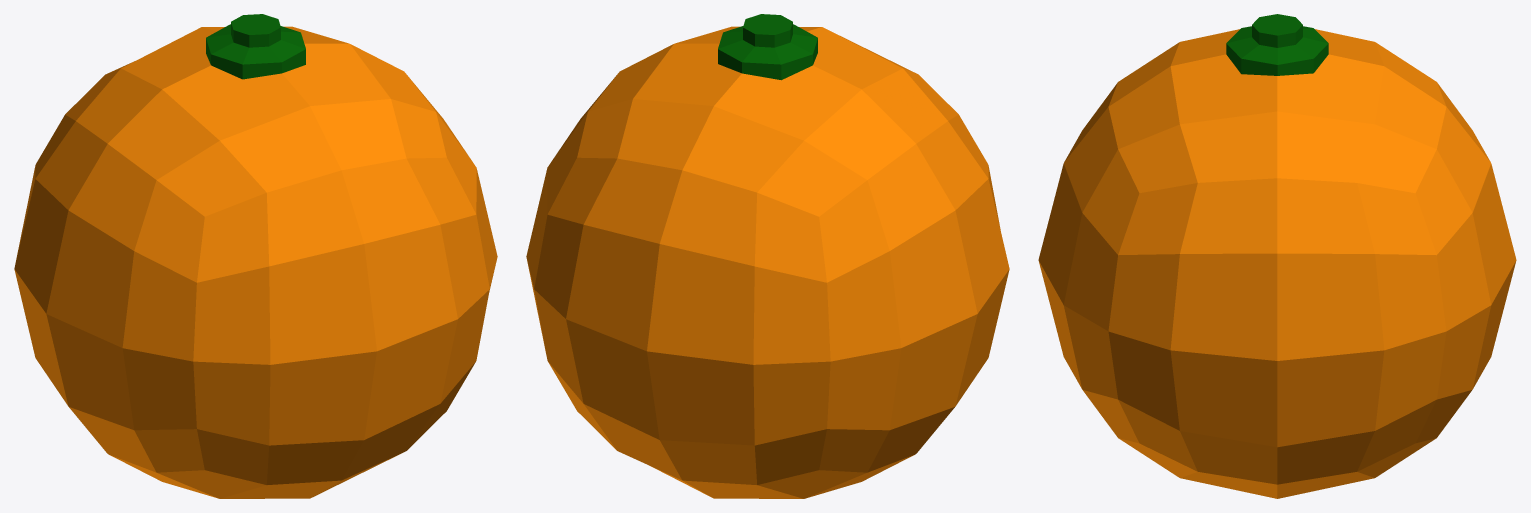
File: Orange_01.fbx
3 renders of one model, left to right at view 1: azimuth 30°, elevation 25°; view 2: azimuth 150°, elevation 25°; view 3: azimuth 270°, elevation 25°, orthographic.
Visible parts, largest first — view 1: Orange_01; view 2: Orange_01; view 3: Orange_01.
Boxes of the visible parts, x1,y1,x2,y2 form: Orange_01: (14,14,497,498); Orange_01: (526,14,1009,498); Orange_01: (1038,14,1516,498).
Size of the model in its own units: 14 by 14.6 by 14.
1 material, 1 textured.
